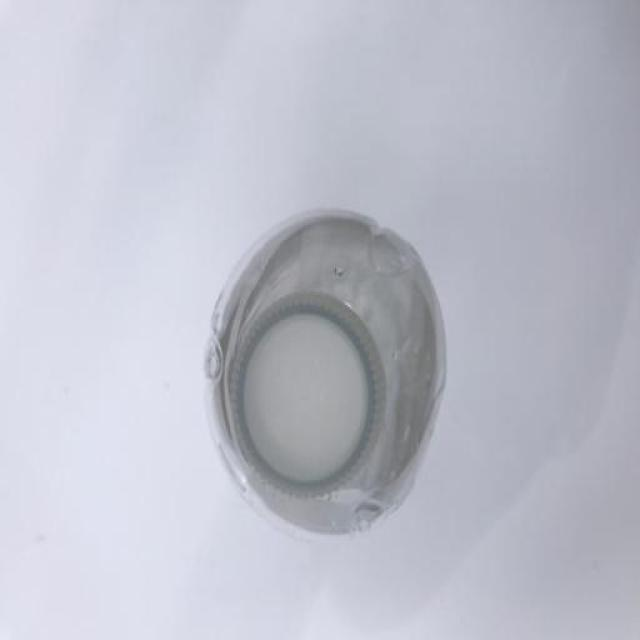Plastic: (201, 207, 449, 542)
